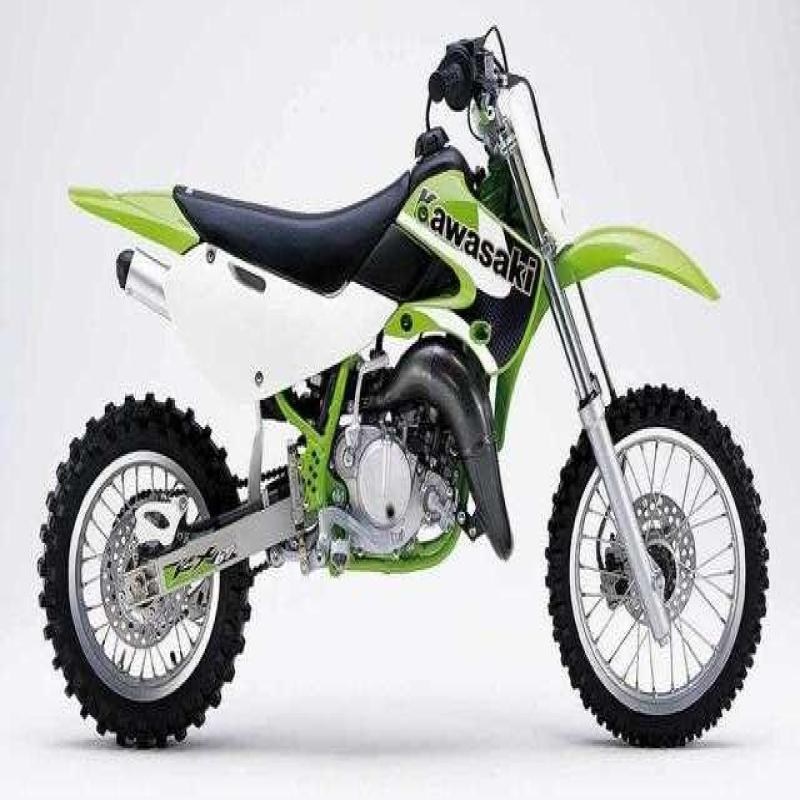bike: (42, 9, 774, 788)
